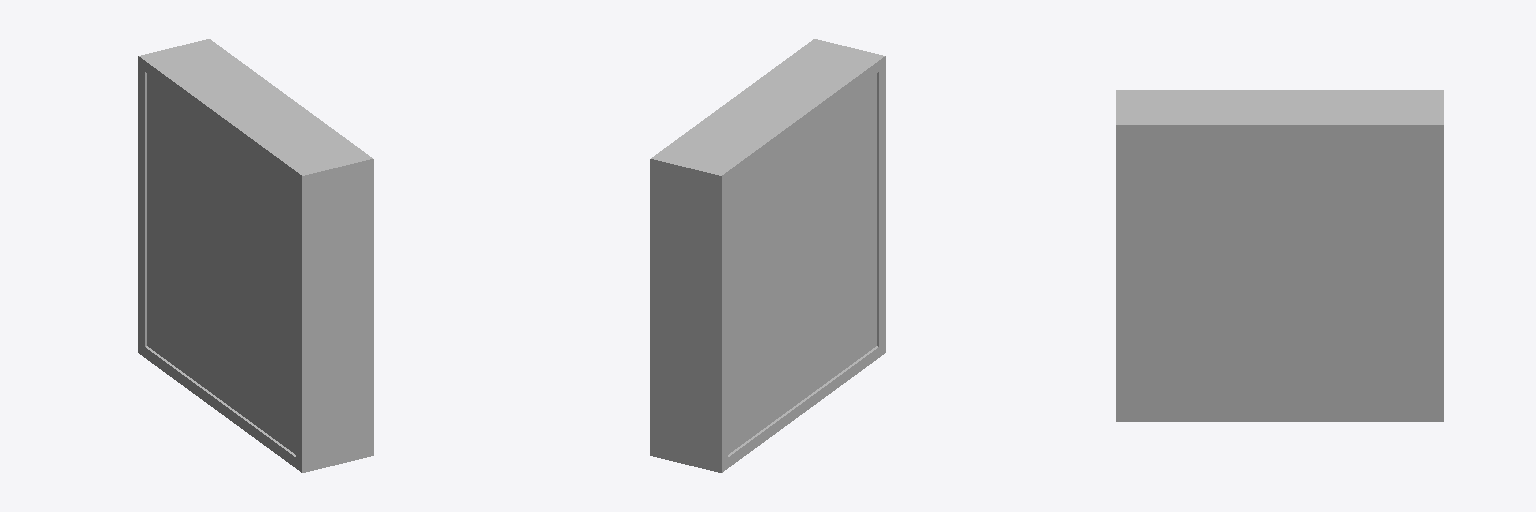
File: display4x4.obj
The picture shows the model from 3 angles: view 1: azimuth 30°, elevation 25°; view 2: azimuth 150°, elevation 25°; view 3: azimuth 270°, elevation 25°; orthographic projection.
Visible parts, largest first — view 1: Cube_Cube.006; view 2: Cube_Cube.006; view 3: Cube_Cube.006.
Part boxes in pixels (left/top/right/bottom): Cube_Cube.006: left=138, top=39, right=373, bottom=472; Cube_Cube.006: left=650, top=39, right=885, bottom=472; Cube_Cube.006: left=1116, top=90, right=1443, bottom=421.
Bounding box in the file's own units: 1 × 4 × 4.